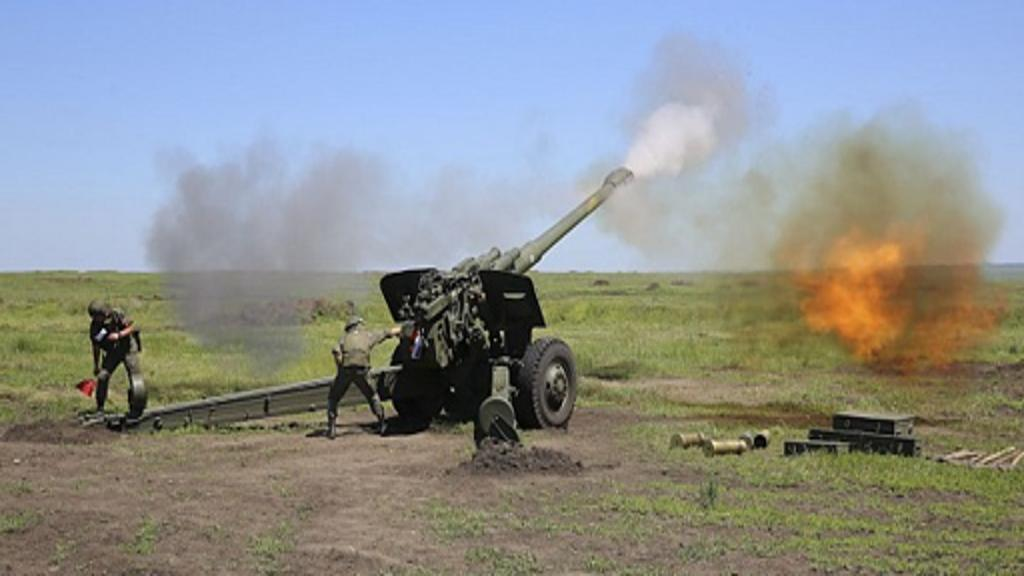ART: (68, 157, 642, 458)
